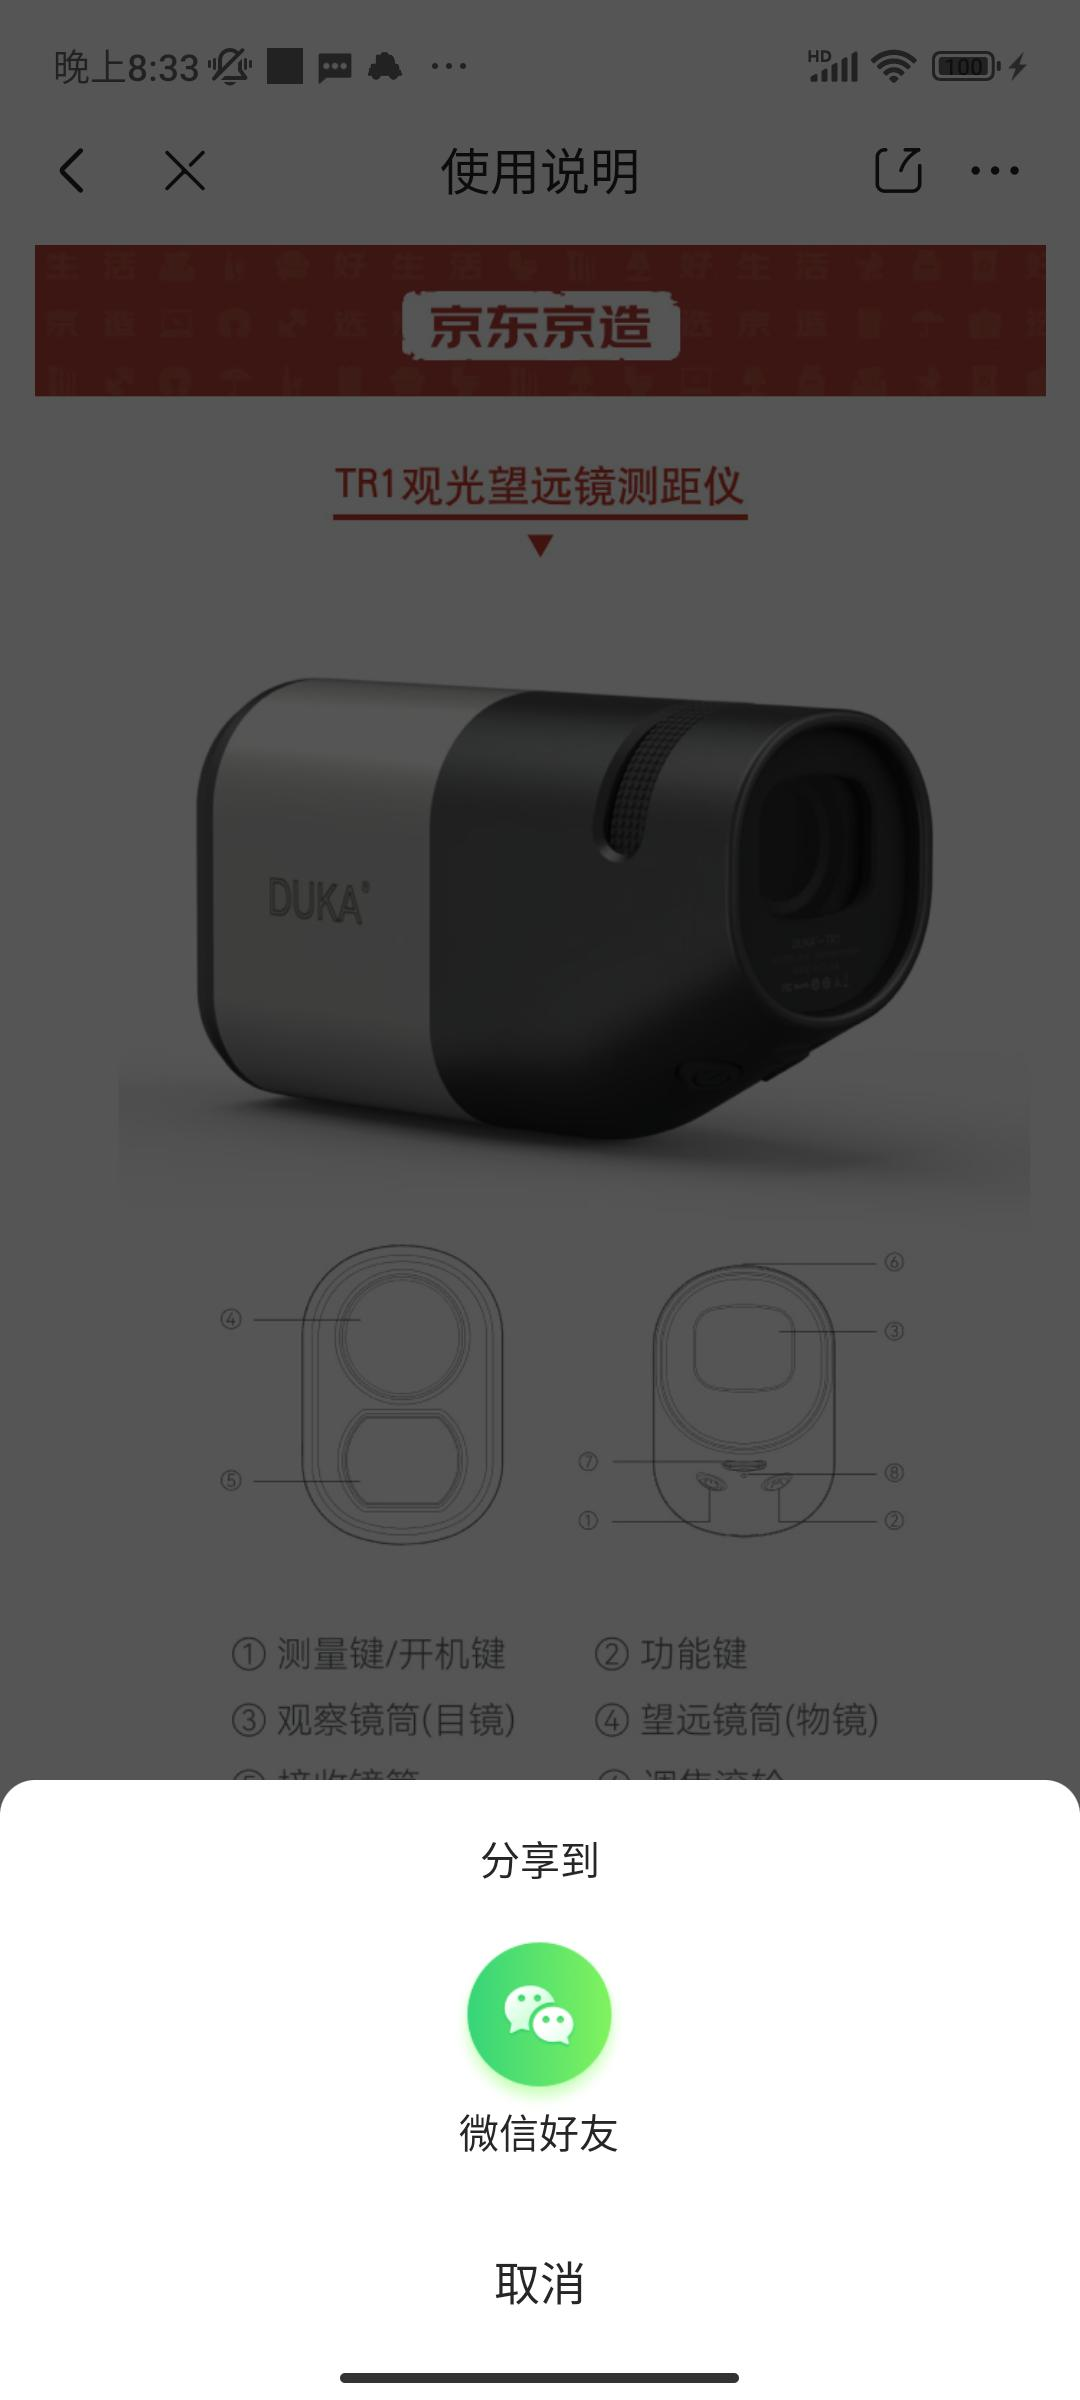ui_group: (5, 1772, 1080, 2362)
